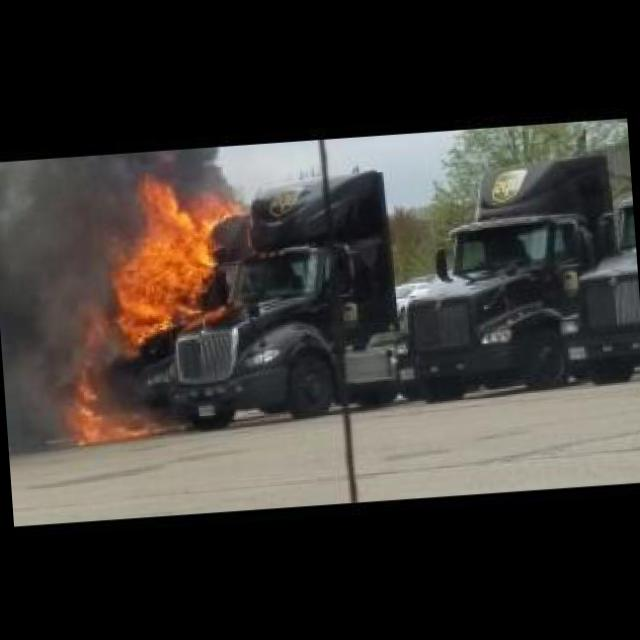fire: (98, 178, 220, 352), (72, 358, 168, 454)
smoke: (0, 157, 147, 411)
